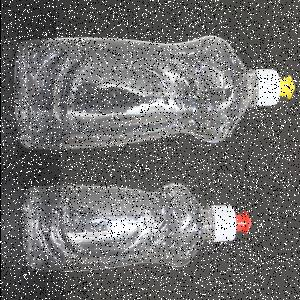Plastic-bottle: (13, 36, 295, 152), (20, 182, 254, 275)
